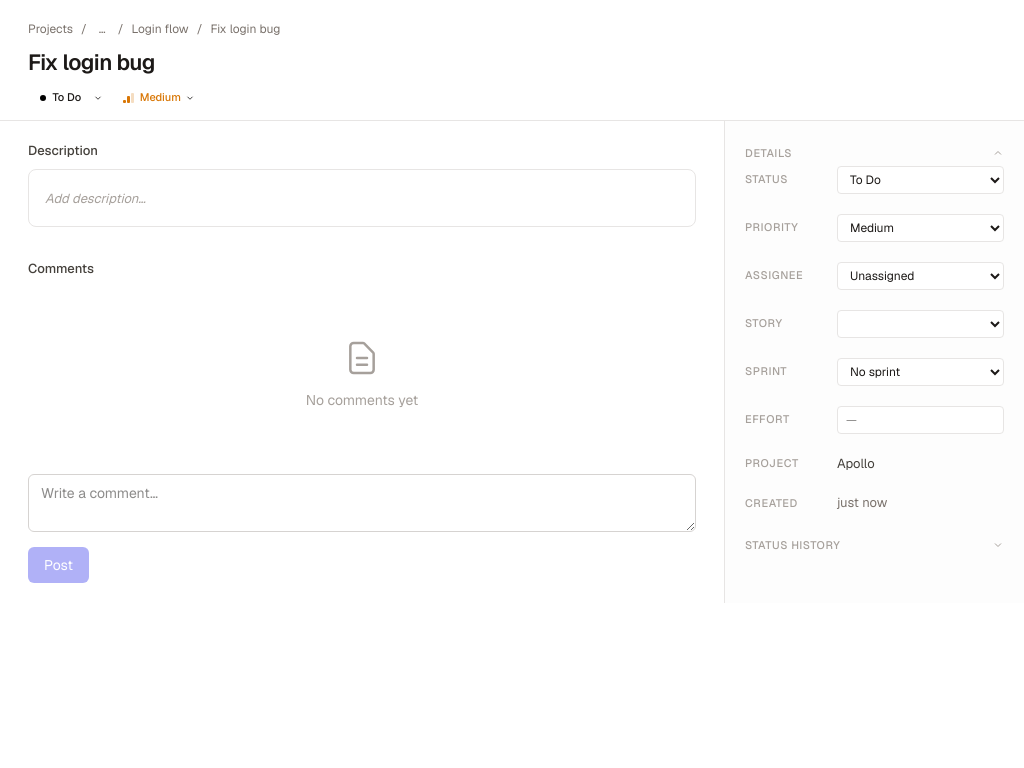
it: TaskDetailPage breadcrumbs (AC5) › expands the collapsed trail back to all four crumbs when the ellipsis is activated
Expected: the heading "Fix login bug" is shown, [28,48,155,76]
Click the button named "Show the full path" at (102, 29), box [95,20,110,38]
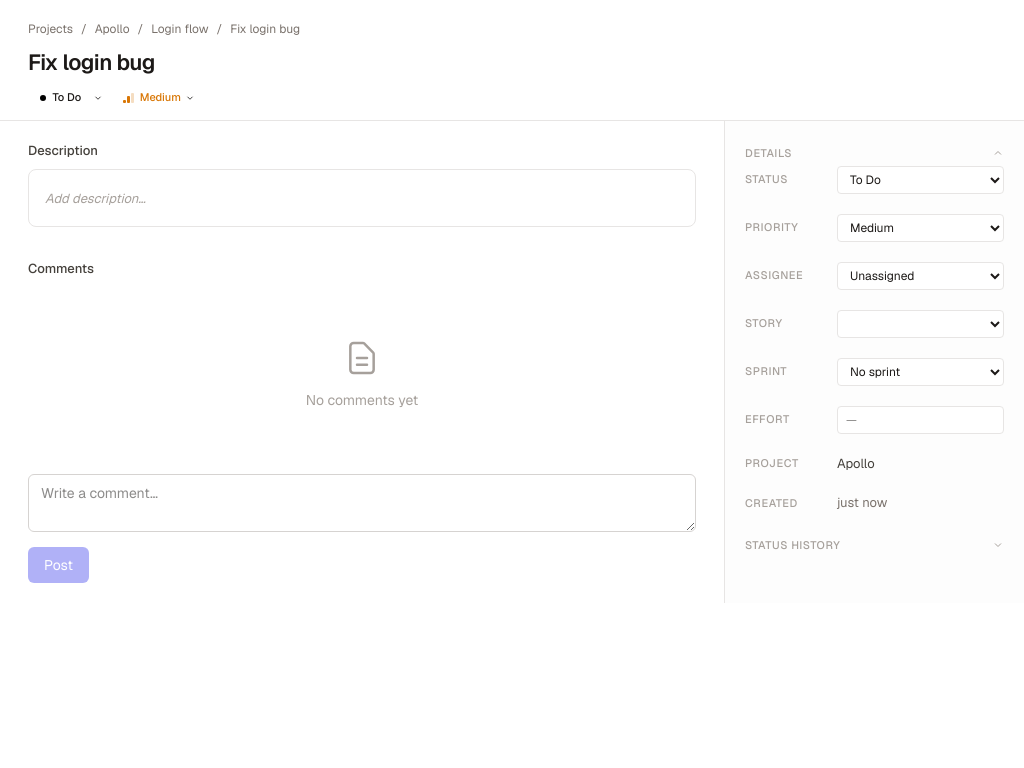
Now the link "Apollo" is shown, box [95,20,130,38]
